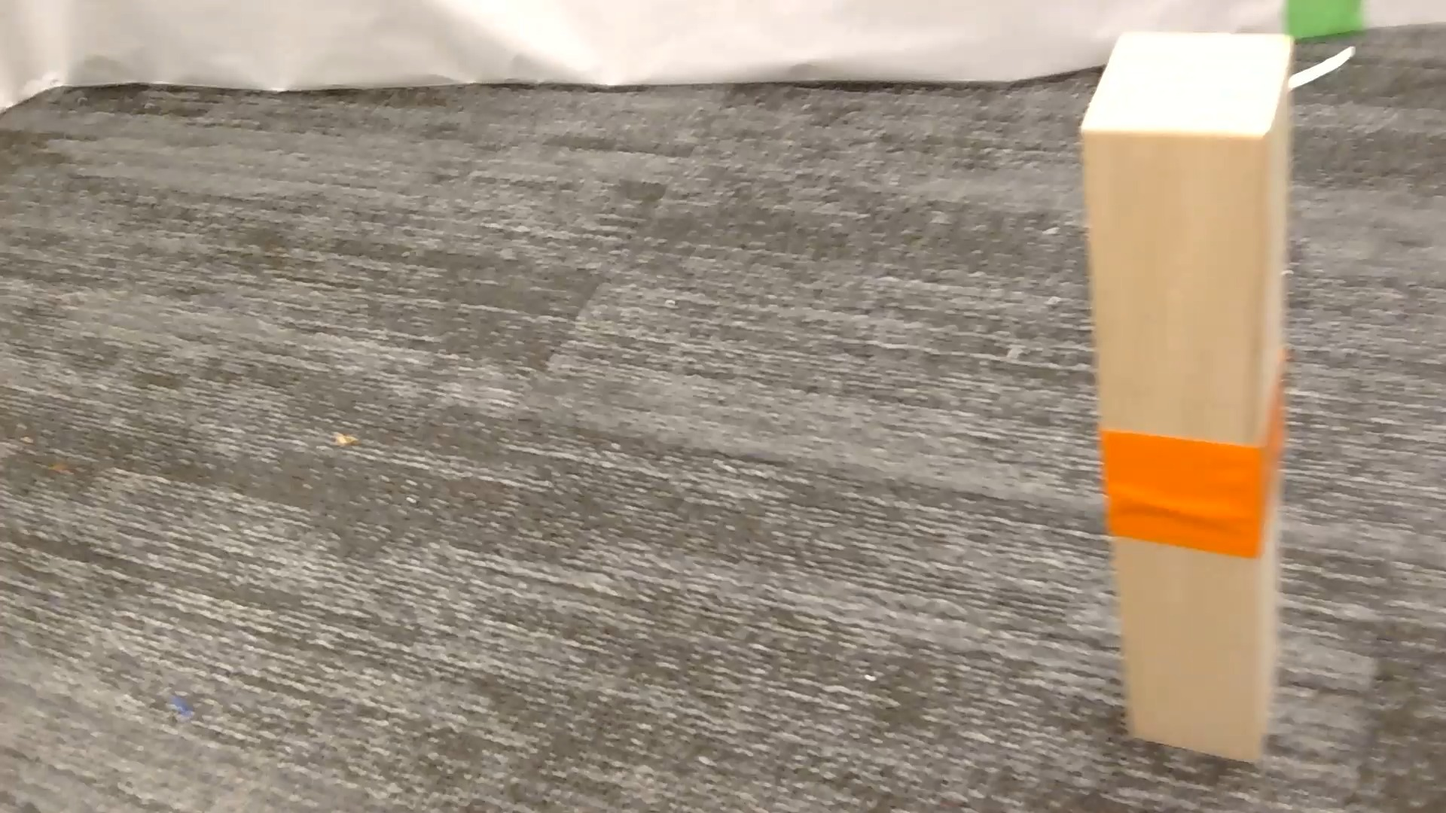Wooden Block: (1081, 32, 1292, 760)
